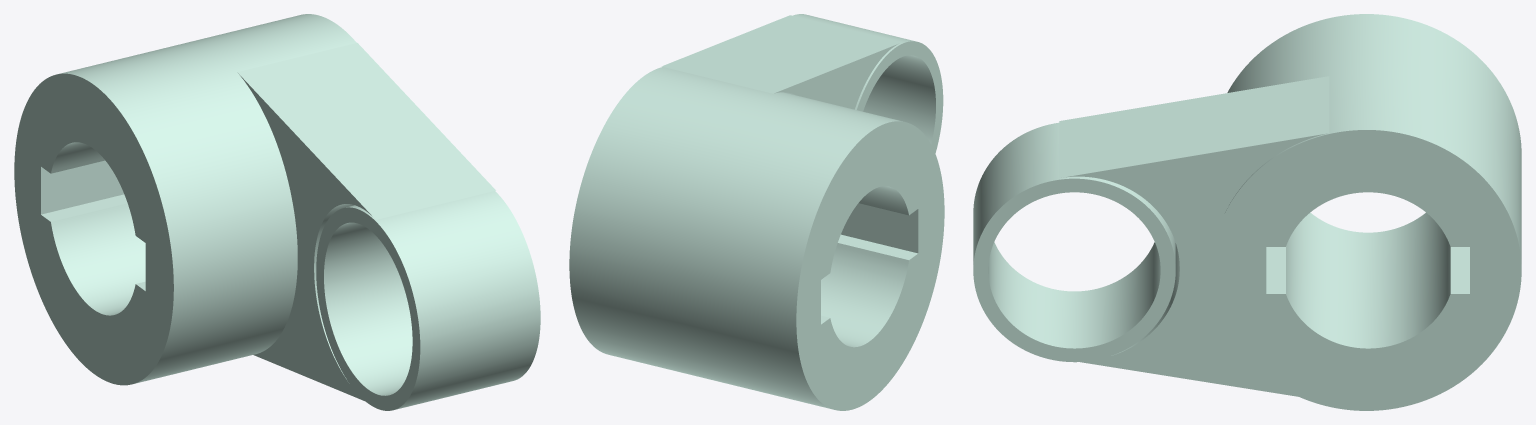
The model's file is expected.gltf.
3 views of the same model, side by side, from view 1: azimuth 30°, elevation 25°; view 2: azimuth 150°, elevation 25°; view 3: azimuth 270°, elevation 25° (orthographic). The views are drawn at different scales.
Visible parts, largest first — view 1: Renderer Node; view 2: Renderer Node; view 3: Renderer Node.
Part boxes in pixels (x1,y1,x2,y2): Renderer Node: [14, 14, 540, 410]; Renderer Node: [569, 14, 944, 410]; Renderer Node: [973, 14, 1521, 410].
Bounding box in the file's own units: 0.5234 × 0.5921 × 1.05.
